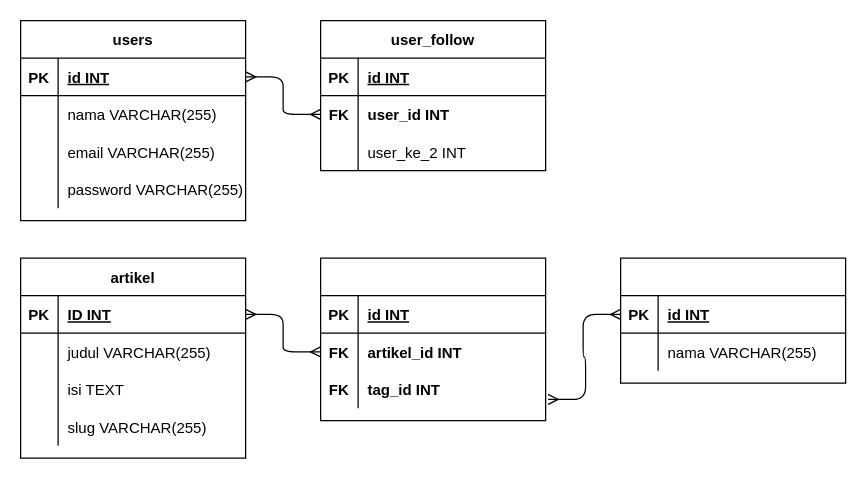
This 866x479 diagram has some shape labels left out. The box of each missing label's shape, as (x1, y1, x2, y2) in pixels:
artikel_tag: (319, 257, 546, 421)
tag: (619, 257, 846, 383)
